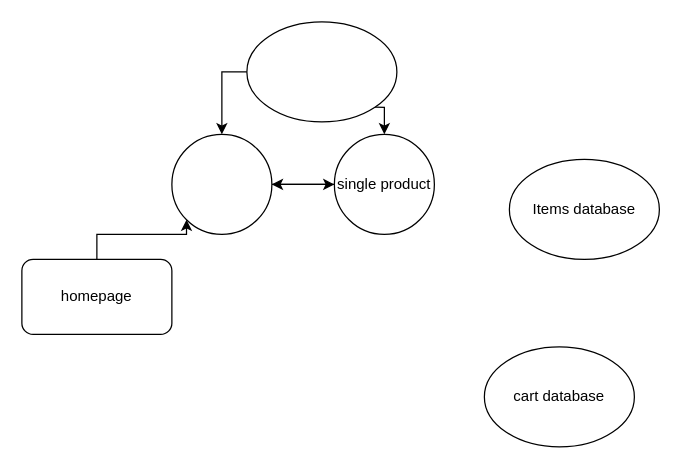
Some shapes in this 681 by 469 pixel diagram are drawn without their labels. Each missing label, with the centre of its shape:
"product database" belongs at point 321,71.
"Products" belongs at point 221,183.
